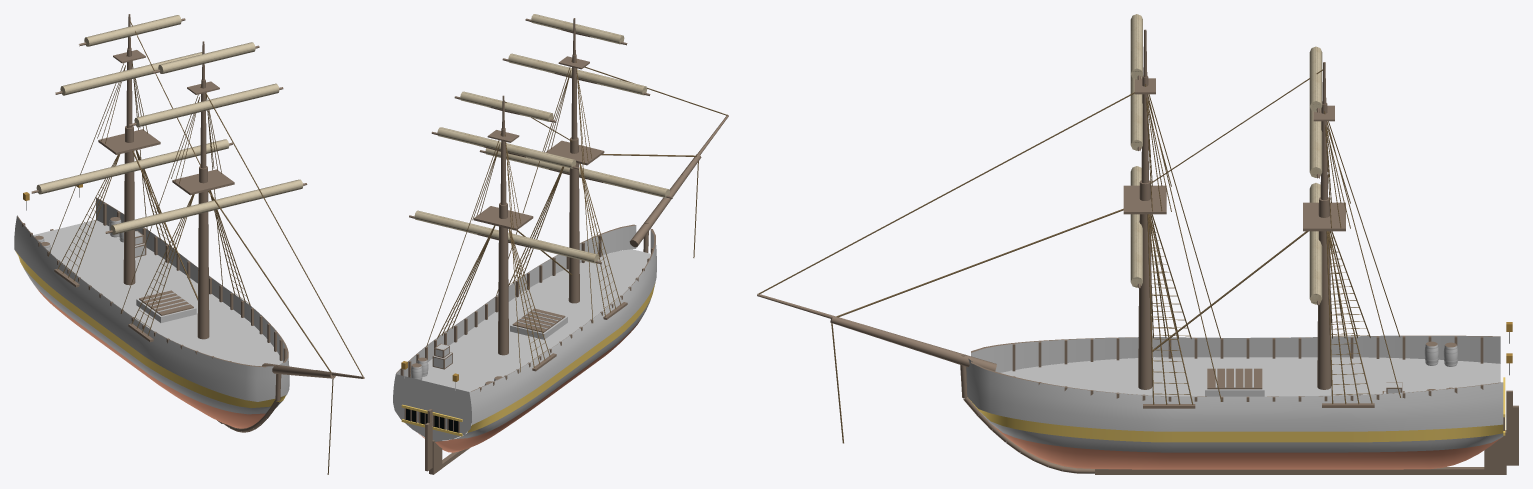
File: SM_Art_Settlement_Harbour_3.gltf
3 renders of one model, left to right at view 1: azimuth 30°, elevation 25°; view 2: azimuth 150°, elevation 25°; view 3: azimuth 270°, elevation 25°, orthographic. The views are drawn at different scales.
Parts seen in each view (by area): view 1: SM_Art_Settlement_Harbour_3; view 2: SM_Art_Settlement_Harbour_3; view 3: SM_Art_Settlement_Harbour_3.
Boxes of the visible parts, bbox=[...] form: SM_Art_Settlement_Harbour_3: bbox=[14, 14, 364, 474]; SM_Art_Settlement_Harbour_3: bbox=[393, 14, 728, 474]; SM_Art_Settlement_Harbour_3: bbox=[757, 14, 1518, 474].
Size of the model in its own units: 11.78 by 20.51 by 31.91.
